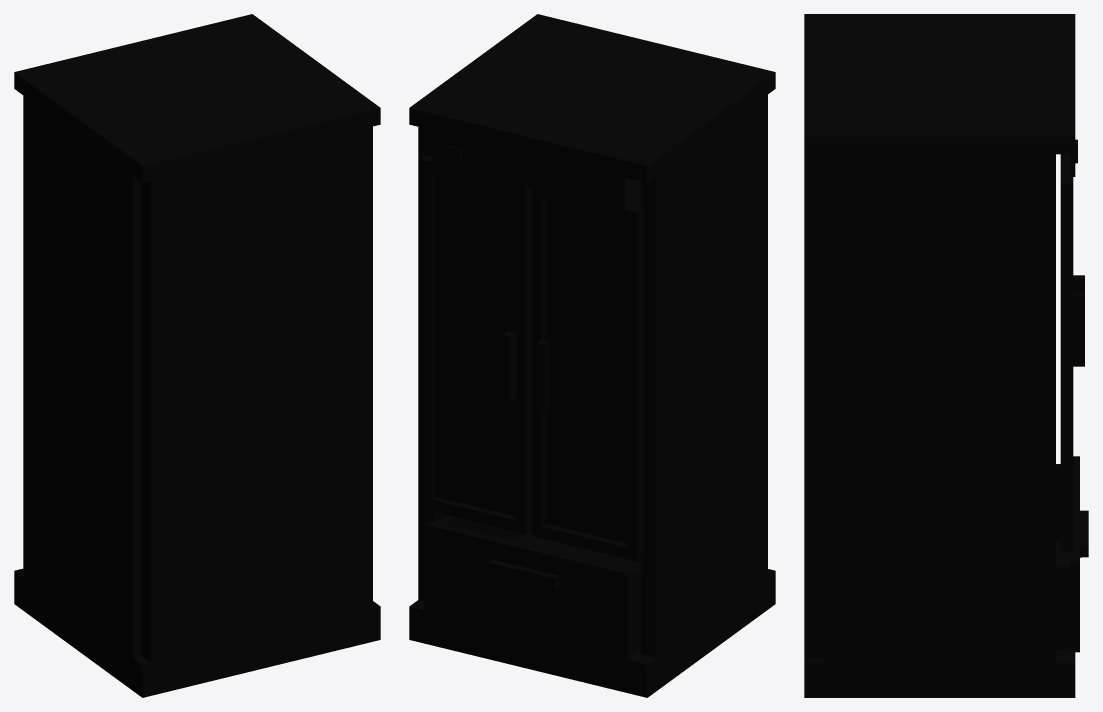
File: lab_glass_cabinet.obj
3 renders of one model, left to right at view 1: azimuth 30°, elevation 25°; view 2: azimuth 150°, elevation 25°; view 3: azimuth 270°, elevation 25°, orthographic. The views are drawn at different scales.
Size of the model in its own units: 0.4102 by 0.875 by 0.402.
